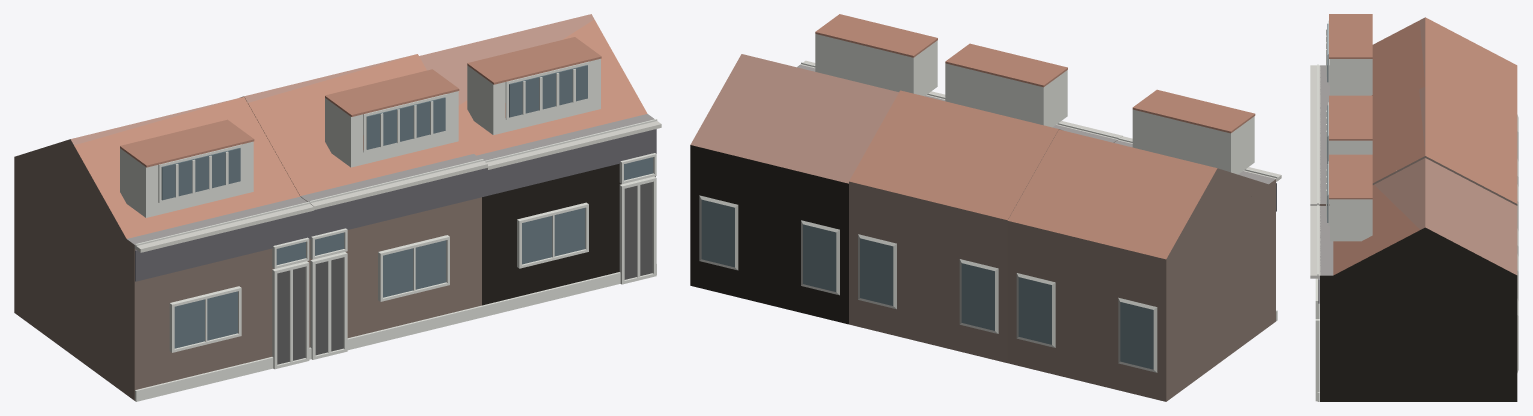
The model's file is chunk-face-vogel-2-16-122155-r1.glb.
3 views of the same model, side by side, from view 1: azimuth 30°, elevation 25°; view 2: azimuth 150°, elevation 25°; view 3: azimuth 270°, elevation 25° (orthographic). The views are drawn at different scales.
Parts seen in each view (by area): view 1: face-vogel-2-16-122155-r1; view 2: face-vogel-2-16-122155-r1; view 3: face-vogel-2-16-122155-r1.
Boxes of the visible parts, x1,y1,x2,y2 form: face-vogel-2-16-122155-r1: (14,14,661,401); face-vogel-2-16-122155-r1: (690,14,1281,401); face-vogel-2-16-122155-r1: (1310,14,1518,401).
Bounding box in the file's own units: 15 × 6.27 × 6.34.
